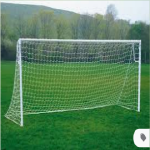goals: (5, 37, 142, 127)
